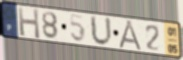2: (145, 24, 161, 52)
5: (69, 13, 88, 44)
8: (40, 11, 59, 40)
A: (117, 19, 145, 52)
H: (17, 6, 42, 41)
U: (89, 14, 114, 48)
